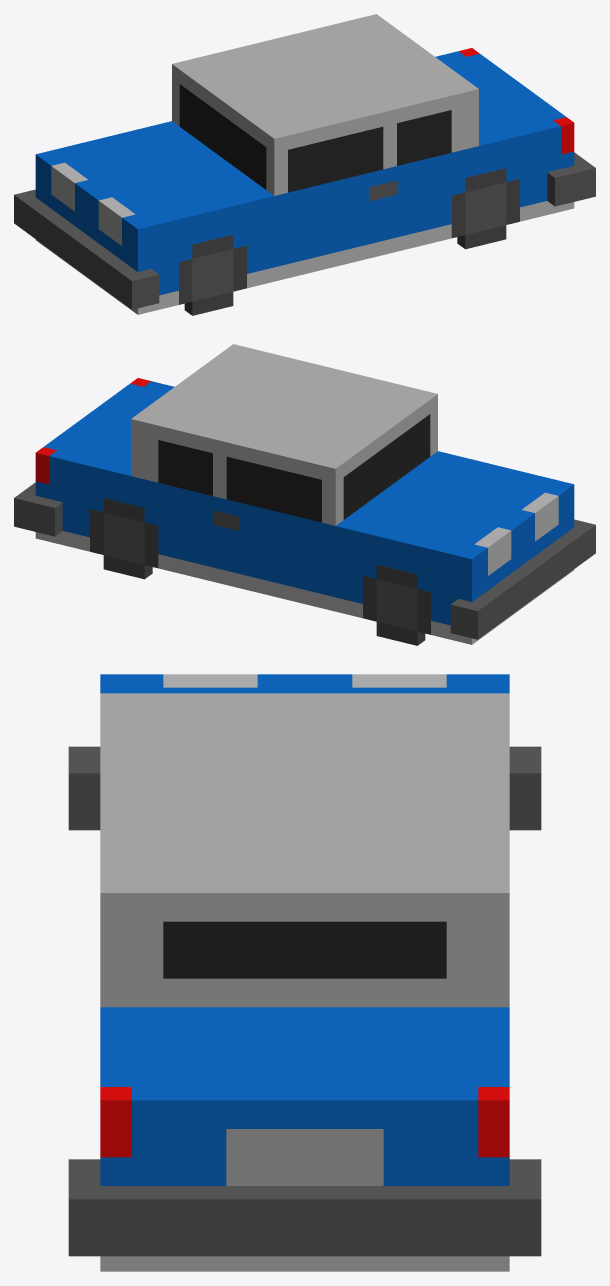
The model's file is voiture1blue.obj.
3 views of the same model, one above another, from view 1: azimuth 30°, elevation 25°; view 2: azimuth 150°, elevation 25°; view 3: azimuth 270°, elevation 25° (orthographic). The views are drawn at different scales.
Visible parts, largest first — view 1: voiture1blue; view 2: voiture1blue; view 3: voiture1blue.
Boxes of the visible parts, bbox=[...] form: voiture1blue: bbox=[14, 14, 595, 315]; voiture1blue: bbox=[14, 344, 595, 645]; voiture1blue: bbox=[68, 674, 541, 1271].
Size of the model in its own units: 34 by 11 by 15.
1 material, 1 textured.
